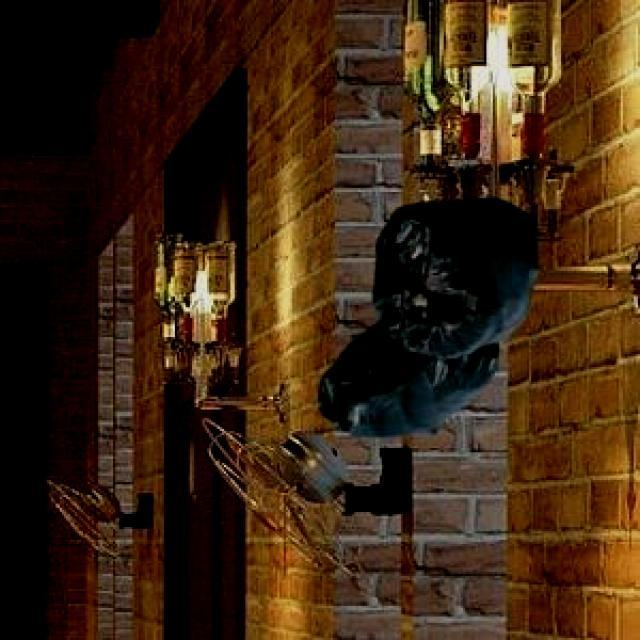Trashbag: (369, 189, 547, 365), (312, 330, 502, 443)
